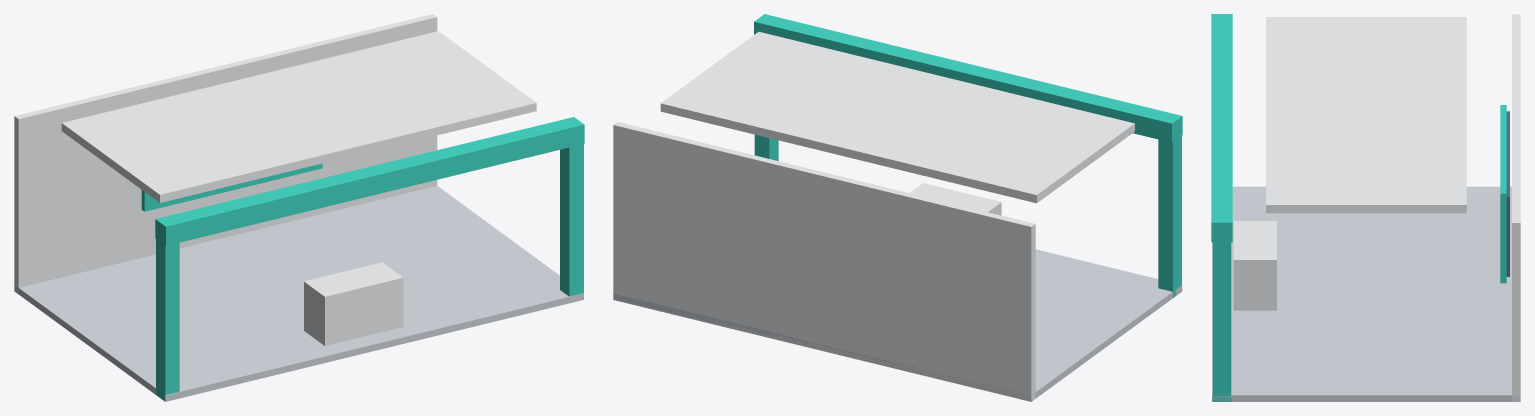
3 renders of one model, left to right at view 1: azimuth 30°, elevation 25°; view 2: azimuth 150°, elevation 25°; view 3: azimuth 270°, elevation 25°, orthographic. The views are drawn at different scales.
Visible parts, largest first — view 1: Exhibition Booth Concept; view 2: Exhibition Booth Concept; view 3: Exhibition Booth Concept.
Boxes of the visible parts, box(x1,y1,x2,y2) form: Exhibition Booth Concept: box(14, 14, 584, 401); Exhibition Booth Concept: box(613, 14, 1182, 401); Exhibition Booth Concept: box(1211, 14, 1520, 401).
Size of the model in its own units: 8 by 3.34 by 5.02.
